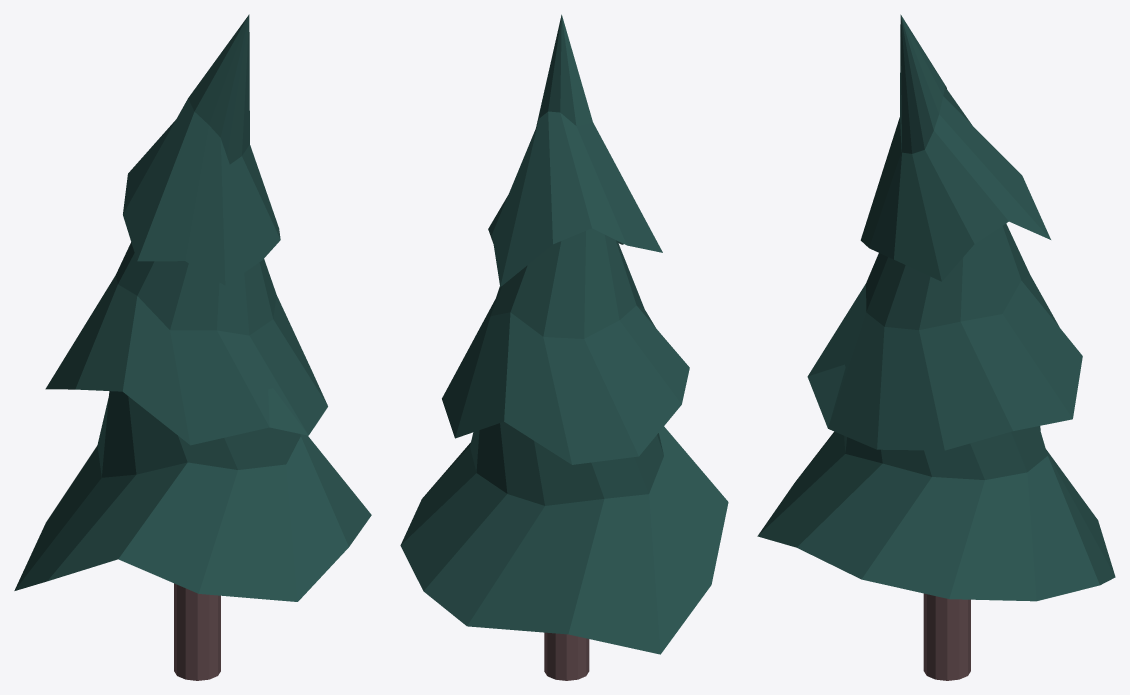
File: tree2.fbx
3 renders of one model, left to right at view 1: azimuth 30°, elevation 25°; view 2: azimuth 150°, elevation 25°; view 3: azimuth 270°, elevation 25°, orthographic. The views are drawn at different scales.
Visible parts, largest first — view 1: Tree2; view 2: Tree2; view 3: Tree2.
Boxes of the visible parts, <box> form: Tree2: <box>14,14,371,680</box>; Tree2: <box>400,14,728,680</box>; Tree2: <box>757,14,1115,680</box>.
Size of the model in its own units: 29.95 by 30.53 by 63.08.
